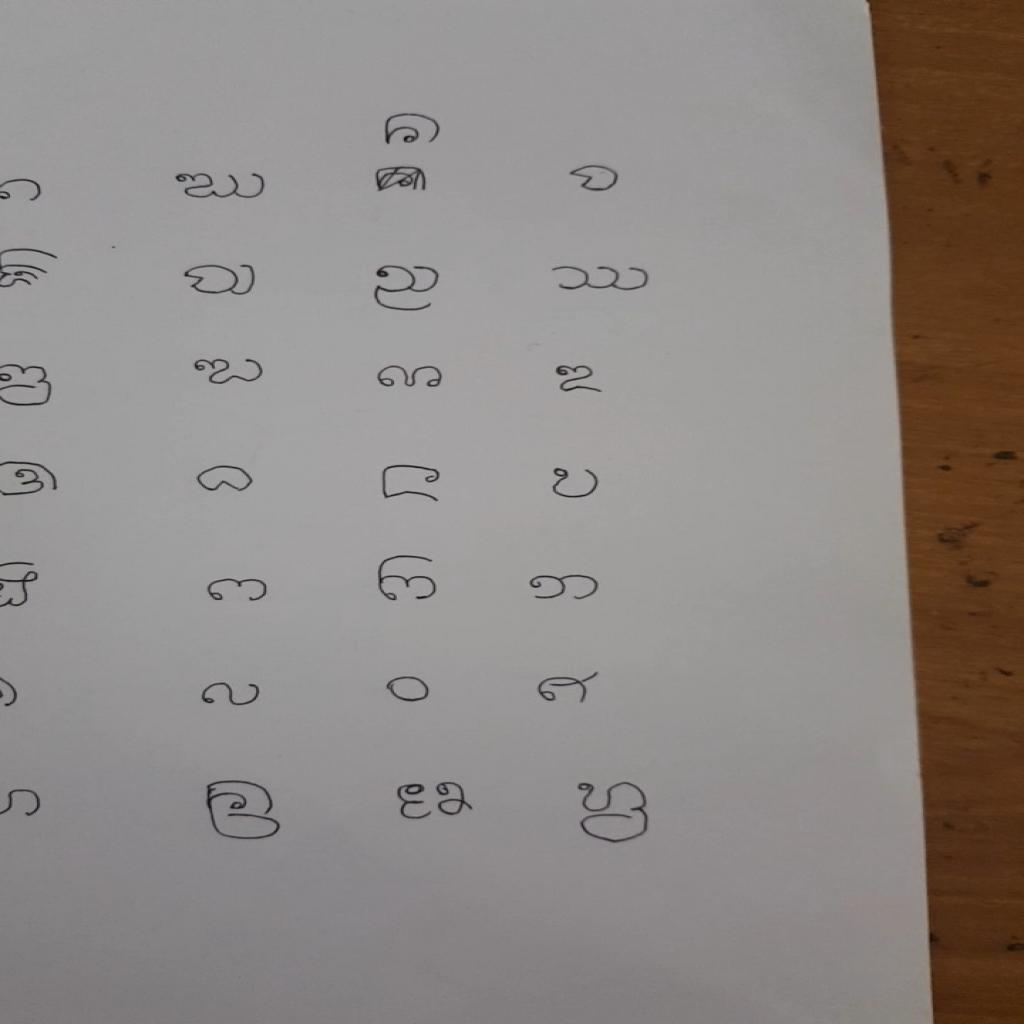LN004: (169, 170, 275, 204)
LN005: (377, 112, 449, 150)
LN006: (564, 162, 630, 197)
LN010: (179, 261, 263, 300)
LN011: (369, 262, 448, 316)
LN012: (546, 263, 658, 297)
LN016: (189, 356, 271, 389)
LN017: (373, 363, 450, 393)
LN018: (547, 362, 611, 397)
LN022: (191, 463, 261, 496)
LN023: (378, 462, 447, 506)
LN024: (547, 465, 605, 503)
LN028: (203, 576, 275, 606)
LN029: (372, 552, 444, 606)
LN030: (524, 573, 606, 605)
LN034: (196, 680, 268, 710)
LN035: (381, 673, 437, 706)
LN036: (533, 669, 606, 709)
LN040: (200, 778, 290, 845)
LN041: (389, 779, 482, 825)
LN042: (569, 779, 658, 849)
